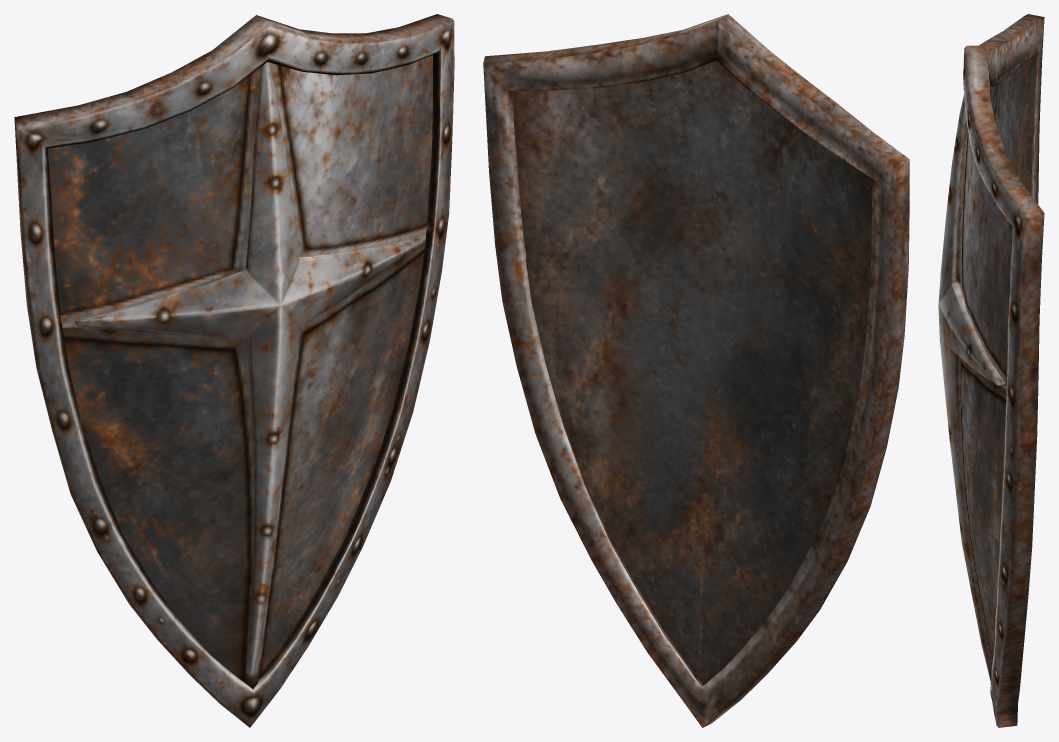
File: SM_H1HeaterShield.fbx
3 renders of one model, left to right at view 1: azimuth 30°, elevation 25°; view 2: azimuth 150°, elevation 25°; view 3: azimuth 270°, elevation 25°, orthographic. The views are drawn at different scales.
Parts seen in each view (by area): view 1: SM_H1HeaterShield; view 2: SM_H1HeaterShield; view 3: SM_H1HeaterShield.
Part boxes in pixels (box(x1,y1,x2,y2)): SM_H1HeaterShield: box(14, 14, 454, 727); SM_H1HeaterShield: box(483, 14, 909, 727); SM_H1HeaterShield: box(938, 14, 1044, 727).
Bounding box in the file's own units: 44.33 × 69.7 × 9.83.
